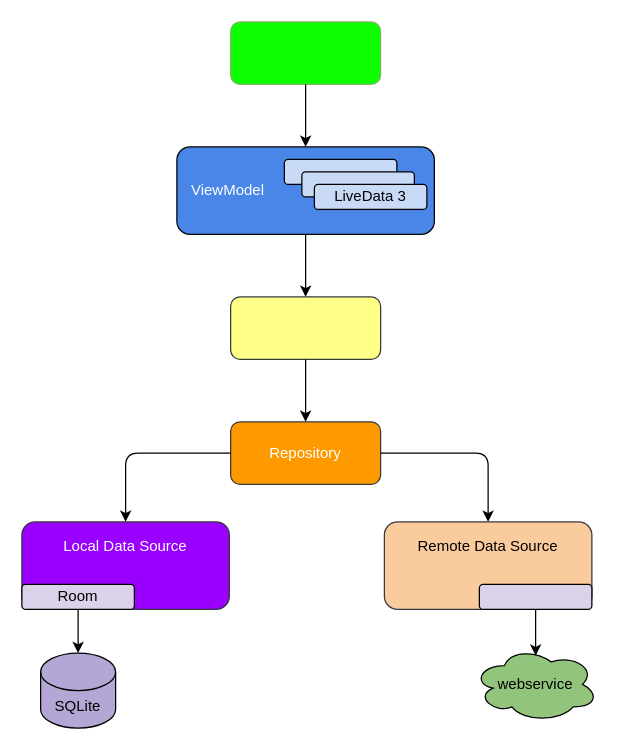
The diagram is 620 pixels wide and 750 high, and some of its shapes have lost their labels. Here are the shapes that lost their labels. From the top down, the centre of each, then its label:
At point 305,52: "Fragment".
At point 305,327: "UseCase".
At point 535,596: "Retrofit".
